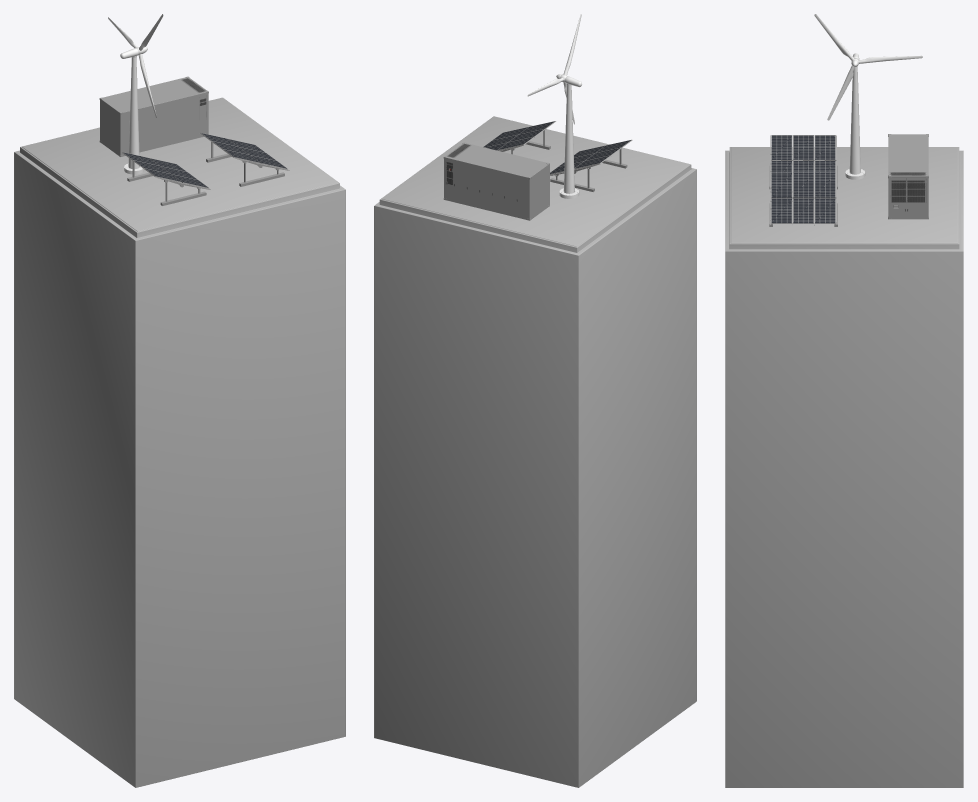
The model's file is station_light.glb.
3 renders of one model, left to right at view 1: azimuth 30°, elevation 25°; view 2: azimuth 150°, elevation 25°; view 3: azimuth 270°, elevation 25°, orthographic. The views are drawn at different scales.
Parts seen in each view (by area): view 1: 底座, 储能, 风能底座, 光伏面板.001, 光伏面板.004, 风能叶片, 金属支架.001; view 2: 底座, 储能, 风能底座, 光伏面板.004, 光伏面板.001; view 3: 底座, 储能, 光伏面板.004, 光伏面板.001, 风能底座, 风能叶片.
Boxes of the visible parts, bbox=[...] form: 底座: bbox=[14, 97, 345, 787]; 储能: bbox=[99, 76, 208, 156]; 风能底座: bbox=[120, 47, 147, 174]; 光伏面板.001: bbox=[122, 152, 209, 188]; 光伏面板.004: bbox=[200, 133, 287, 169]; 风能叶片: bbox=[108, 14, 163, 117]; 金属支架.001: bbox=[127, 161, 210, 205]; 底座: bbox=[374, 116, 696, 787]; 储能: bbox=[443, 142, 549, 220]; 风能底座: bbox=[556, 74, 581, 198]; 光伏面板.004: bbox=[483, 121, 555, 150]; 光伏面板.001: bbox=[550, 139, 632, 174]; 底座: bbox=[725, 147, 963, 787]; 储能: bbox=[888, 134, 928, 219]; 光伏面板.004: bbox=[771, 172, 836, 223]; 光伏面板.001: bbox=[771, 135, 836, 172]; 风能底座: bbox=[845, 53, 865, 179]; 风能叶片: bbox=[814, 14, 922, 120].
Size of the model in its own units: 2.17 by 7.12 by 2.17.
5 materials, 2 textured.
